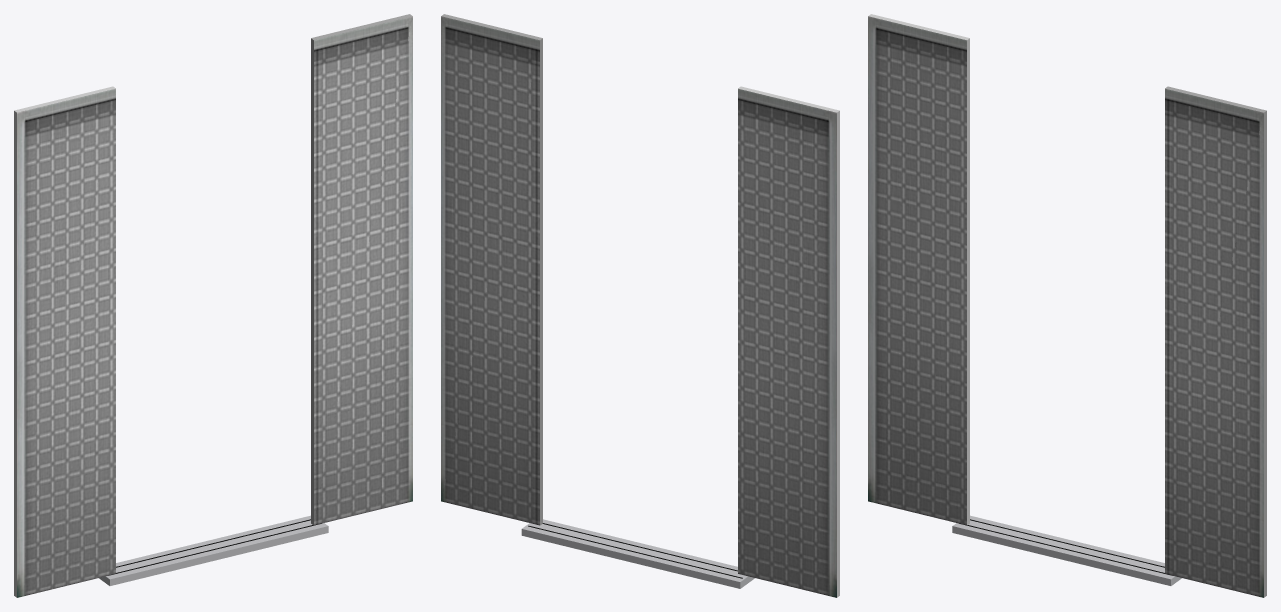
The model's file is cabin_door_TM020.glb.
3 renders of one model, left to right at view 1: azimuth 30°, elevation 25°; view 2: azimuth 150°, elevation 25°; view 3: azimuth 330°, elevation 25°, orthographic.
Parts seen in each view (by area): view 1: Car_Door_L, Car_Door_R, Door_Sill; view 2: Car_Door_L, Car_Door_R, Door_Sill; view 3: Car_Door_R, Car_Door_L, Door_Sill.
Boxes of the visible parts, x1,y1,x2,y2 form: Car_Door_L: (14,86,115,597); Car_Door_R: (311,14,412,525); Door_Sill: (99,515,328,585); Car_Door_L: (738,86,839,597); Car_Door_R: (441,14,542,525); Door_Sill: (521,519,754,588); Car_Door_R: (1165,86,1266,597); Car_Door_L: (868,14,969,525); Door_Sill: (952,515,1181,585).
Bounding box in the file's own units: 1.81 × 2.15 × 0.12.
Materials: 3 (1 with a texture image).
